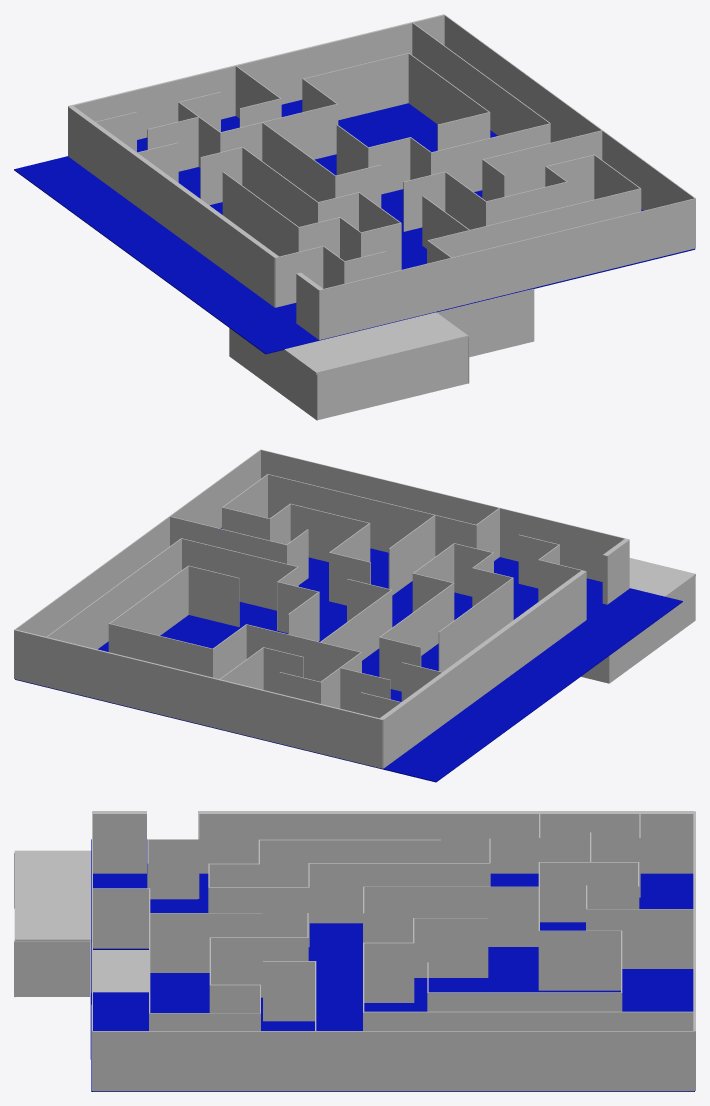
Rendered from Laberinto.obj.
3 renders of one model, top to bottom at view 1: azimuth 30°, elevation 25°; view 2: azimuth 150°, elevation 25°; view 3: azimuth 270°, elevation 25°, orthographic. The views are drawn at different scales.
Parts seen in each view (by area): view 1: Suelo, Pared_Derecha, Pared_Principio, Pared_Izquierda, Pared_Final, Pared_derecha, Techo_abajo, Laberinto_1.010, Laberinto_1.027, Laberinto_1.032, Pared_derecha_rampa, Laberinto_1.029 (+36 smaller); view 2: Suelo, Pared_Izquierda, Pared_Principio, Pared_Derecha, Pared_Final, Laberinto_1.010, Laberinto_1.027, Laberinto_1.028, Laberinto_1.007, Laberinto_1.032, Pared_principio, Laberinto_1.029 (+33 smaller); view 3: Pared_Final, Pared_Principio, Suelo, Laberinto_1.030, Techo_abajo, Laberinto_1.027, Laberinto_1.008, Laberinto_1.007, Laberinto_1.012, Laberinto_1.018, Laberinto_1.036, Laberinto_1.017 (+14 smaller).
Boxes of the visible parts, x1,y1,x2,y2 form: Suelo: (14,100,695,354); Pared_Derecha: (319,198,695,339); Pared_Principio: (68,106,322,339); Pared_Izquierda: (68,14,444,155); Pared_Final: (444,15,695,210); Pared_derecha: (317,337,469,419); Techo_abajo: (283,312,468,374); Laberinto_1.010: (427,188,640,263); Laberinto_1.027: (412,22,549,135); Laberinto_1.032: (303,53,408,120); Pared_derecha_rampa: (437,288,534,357); Laberinto_1.029: (221,103,338,160); Suelo: (15,527,682,782); Pared_Izquierda: (14,629,383,768); Pared_Principio: (380,539,629,767); Pared_Derecha: (260,449,629,581); Pared_Final: (15,449,260,636); Laberinto_1.010: (268,474,476,556); Laberinto_1.027: (46,538,181,649); Laberinto_1.028: (182,538,297,610); Laberinto_1.007: (438,577,513,671); Laberinto_1.032: (108,623,212,677); Pared_principio: (609,576,695,683); Laberinto_1.029: (246,624,360,681); Pared_Final: (93,1031,693,1091); Pared_Principio: (93,811,693,873); Suelo: (91,839,694,1091); Laberinto_1.030: (364,886,538,946); Techo_abajo: (14,850,91,941); Laberinto_1.027: (364,1011,693,1030); Laberinto_1.008: (308,863,490,923); Laberinto_1.007: (259,839,440,886); Laberinto_1.012: (538,862,639,922); Laberinto_1.018: (587,909,693,968); Laberinto_1.036: (540,930,621,990); Laberinto_1.017: (150,913,262,972).
Size of the model in its own units: 85.5 by 19.79 by 97.77.
